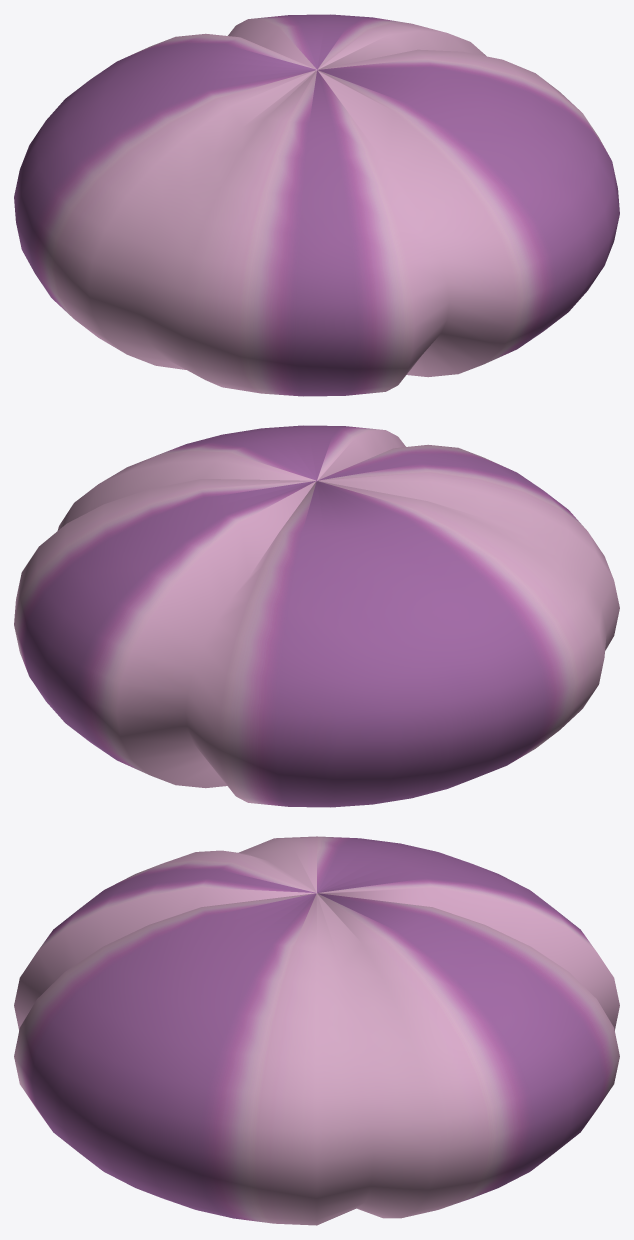
The model's file is bonbon3.fbx.
3 views of the same model, one above another, from view 1: azimuth 30°, elevation 25°; view 2: azimuth 150°, elevation 25°; view 3: azimuth 270°, elevation 25° (orthographic).
Parts seen in each view (by area): view 1: Sphere; view 2: Sphere; view 3: Sphere.
Part boxes in pixels (bbox=[...]): Sphere: bbox=[14, 14, 619, 396]; Sphere: bbox=[14, 425, 619, 807]; Sphere: bbox=[14, 836, 619, 1225].
Bounding box in the file's own units: 200 × 98.52 × 196.
